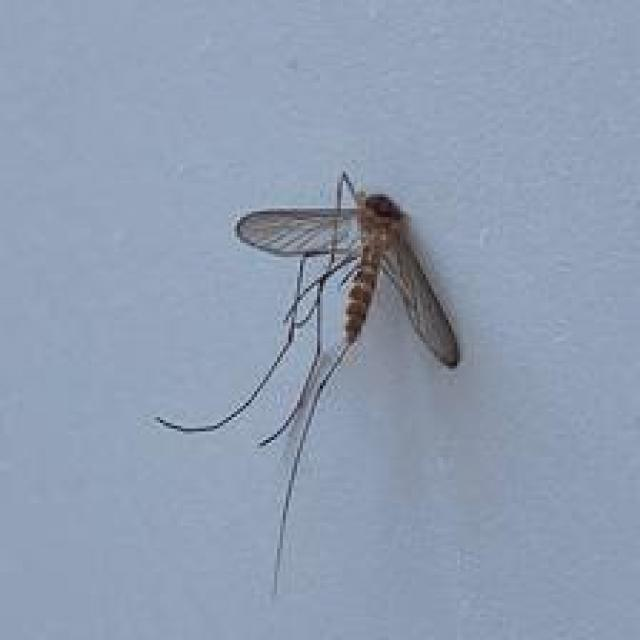Culex: (153, 169, 461, 597)
